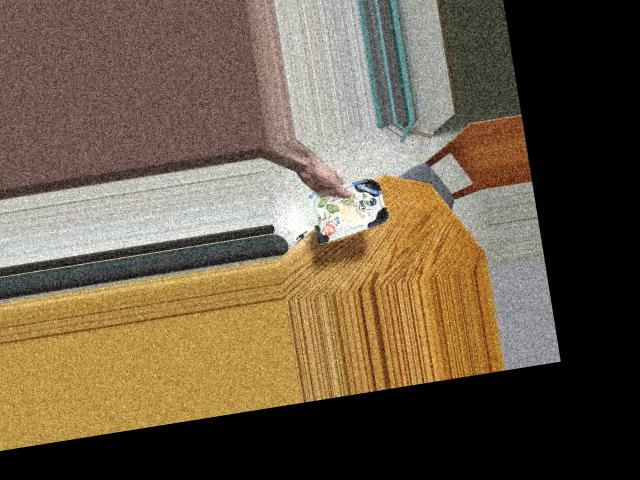cheese: (305, 168, 388, 245)
